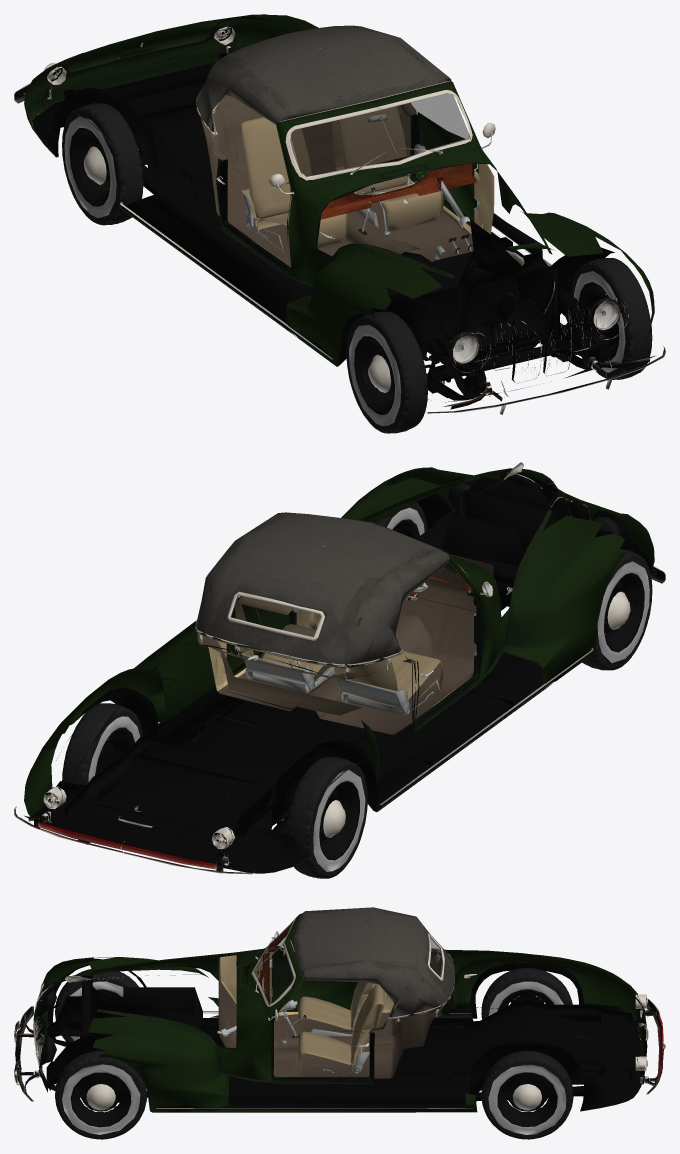
The model's file is user_car_zis101.glb.
The picture shows the model from 3 angles, top to bottom: view 1: azimuth 30°, elevation 25°; view 2: azimuth 150°, elevation 25°; view 3: azimuth 270°, elevation 25°; orthographic projection. The views are drawn at different scales.
Visible parts, largest first — view 1: UserCarZis101; view 2: UserCarZis101; view 3: UserCarZis101.
Boxes of the visible parts, x1,y1,x2,y2 form: UserCarZis101: (14,14,665,433); UserCarZis101: (14,462,665,878); UserCarZis101: (14,907,665,1139).
Bounding box in the file's own units: 1.65 × 1.35 × 4.75.
10 materials, 7 textured.
